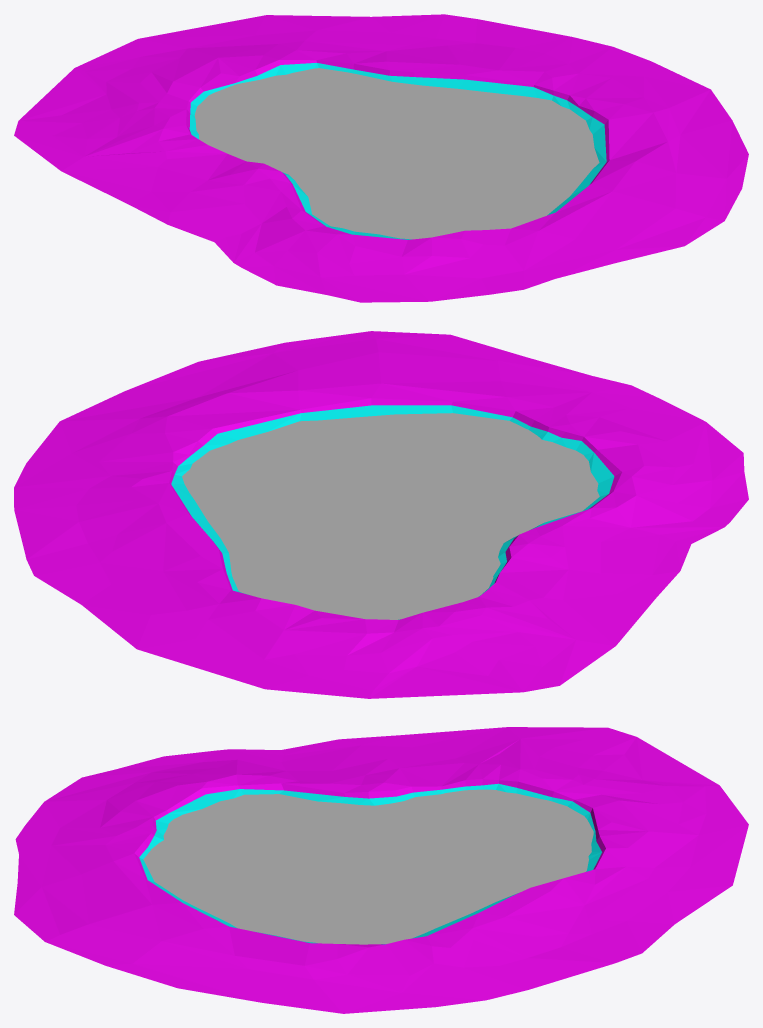
Rendered from pond_mat.fbx.
3 views of the same model, one above another, from view 1: azimuth 30°, elevation 25°; view 2: azimuth 150°, elevation 25°; view 3: azimuth 270°, elevation 25° (orthographic). The views are drawn at different scales.
Parts seen in each view (by area): view 1: polySurface1, SM_Env_Pond_Water_01; view 2: polySurface1, SM_Env_Pond_Water_01; view 3: polySurface1, SM_Env_Pond_Water_01.
Boxes of the visible parts, left/top/right/bottom form: polySurface1: left=14, top=14, right=748, bottom=302; SM_Env_Pond_Water_01: left=194, top=68, right=599, bottom=239; polySurface1: left=14, top=331, right=748, bottom=698; SM_Env_Pond_Water_01: left=182, top=413, right=599, bottom=619; polySurface1: left=14, top=727, right=748, bottom=1013; SM_Env_Pond_Water_01: left=143, top=789, right=593, bottom=944.
Size of the model in its own units: 3728 by 205 by 4023.
